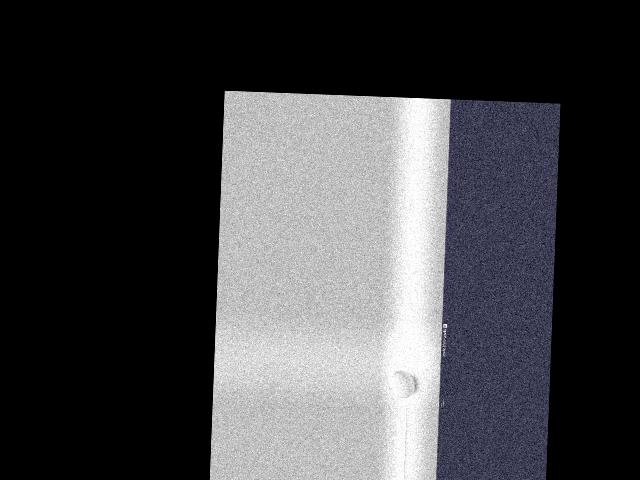egg: (390, 371, 416, 399)
